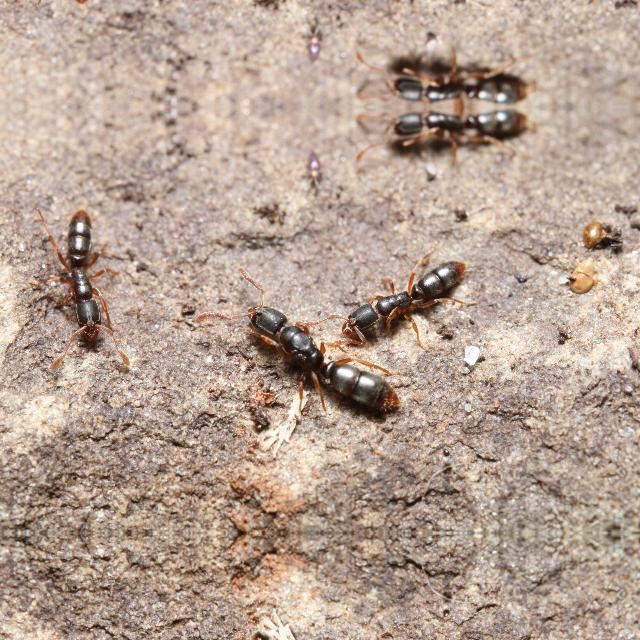Ponera: (241, 295, 411, 427), (44, 195, 158, 361), (351, 250, 489, 338), (366, 106, 550, 170), (366, 42, 550, 106)
